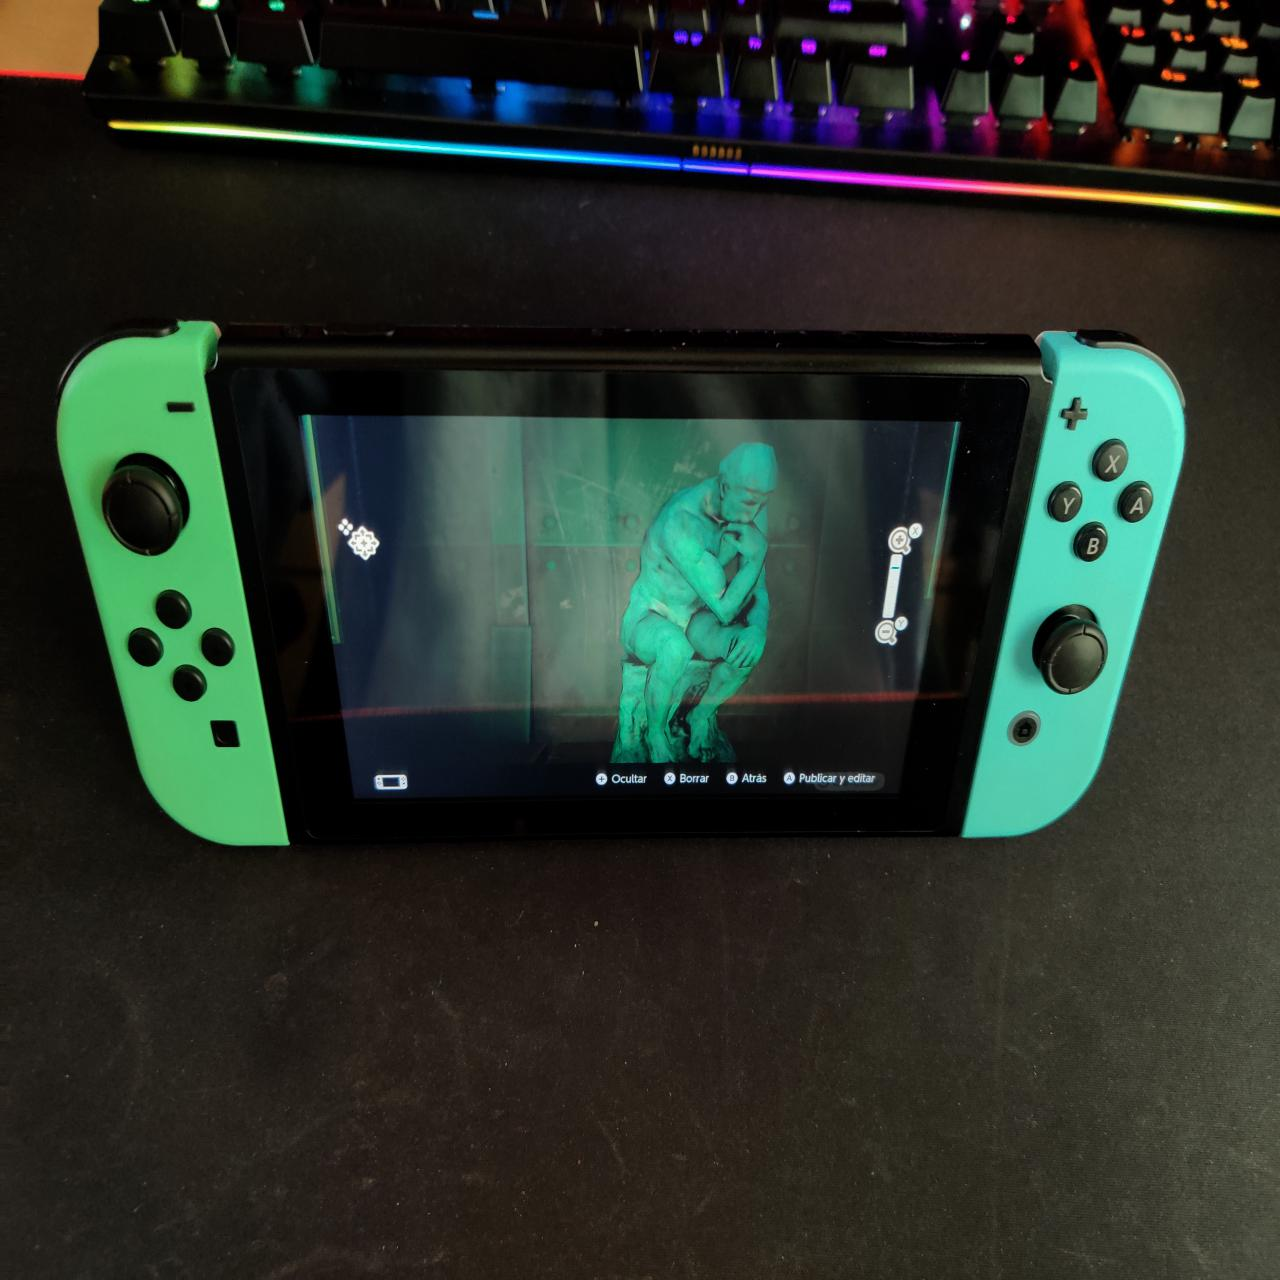Thinker: (607, 438, 785, 765)
